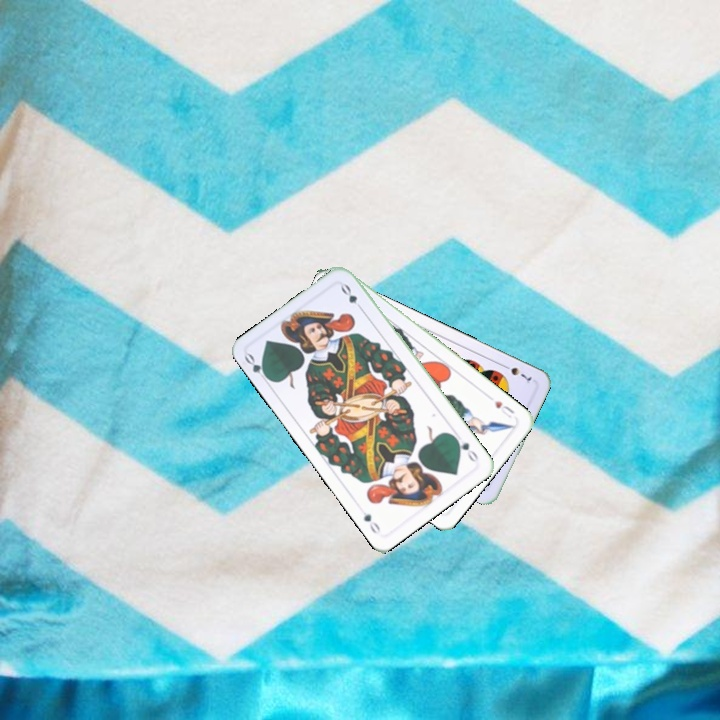GO: (240, 349, 273, 386), (450, 432, 481, 466)
HU: (490, 397, 517, 421)
S7: (498, 360, 534, 386)
